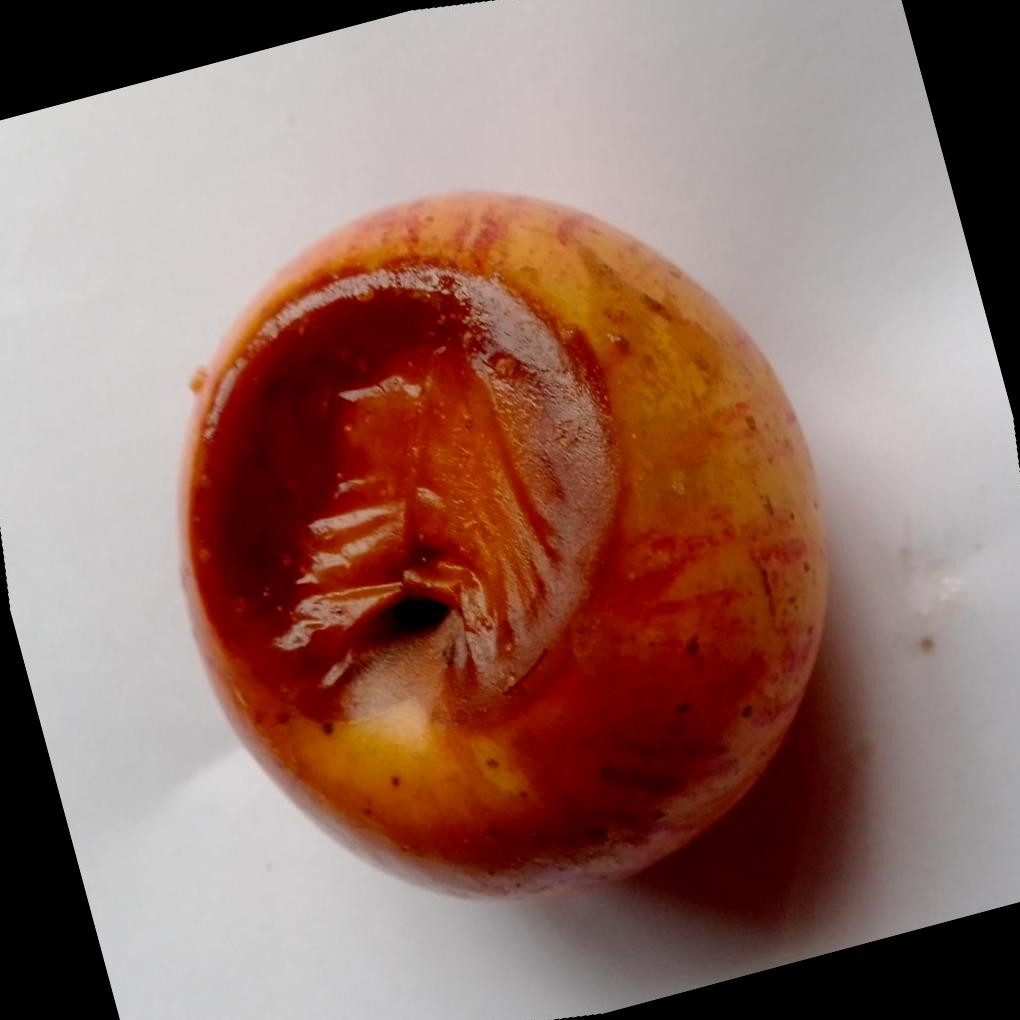FreshOrange: (175, 184, 831, 900)
